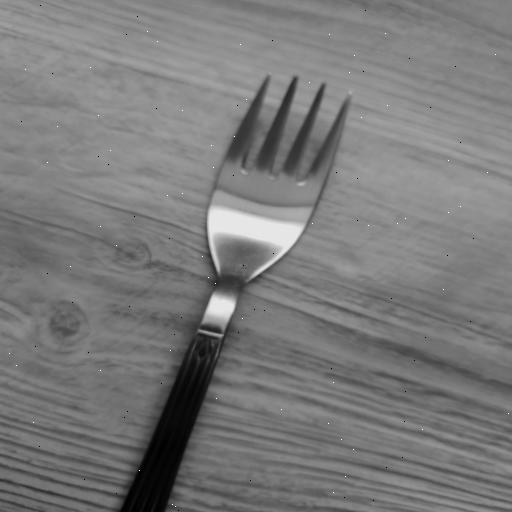fork: (116, 71, 356, 512)
